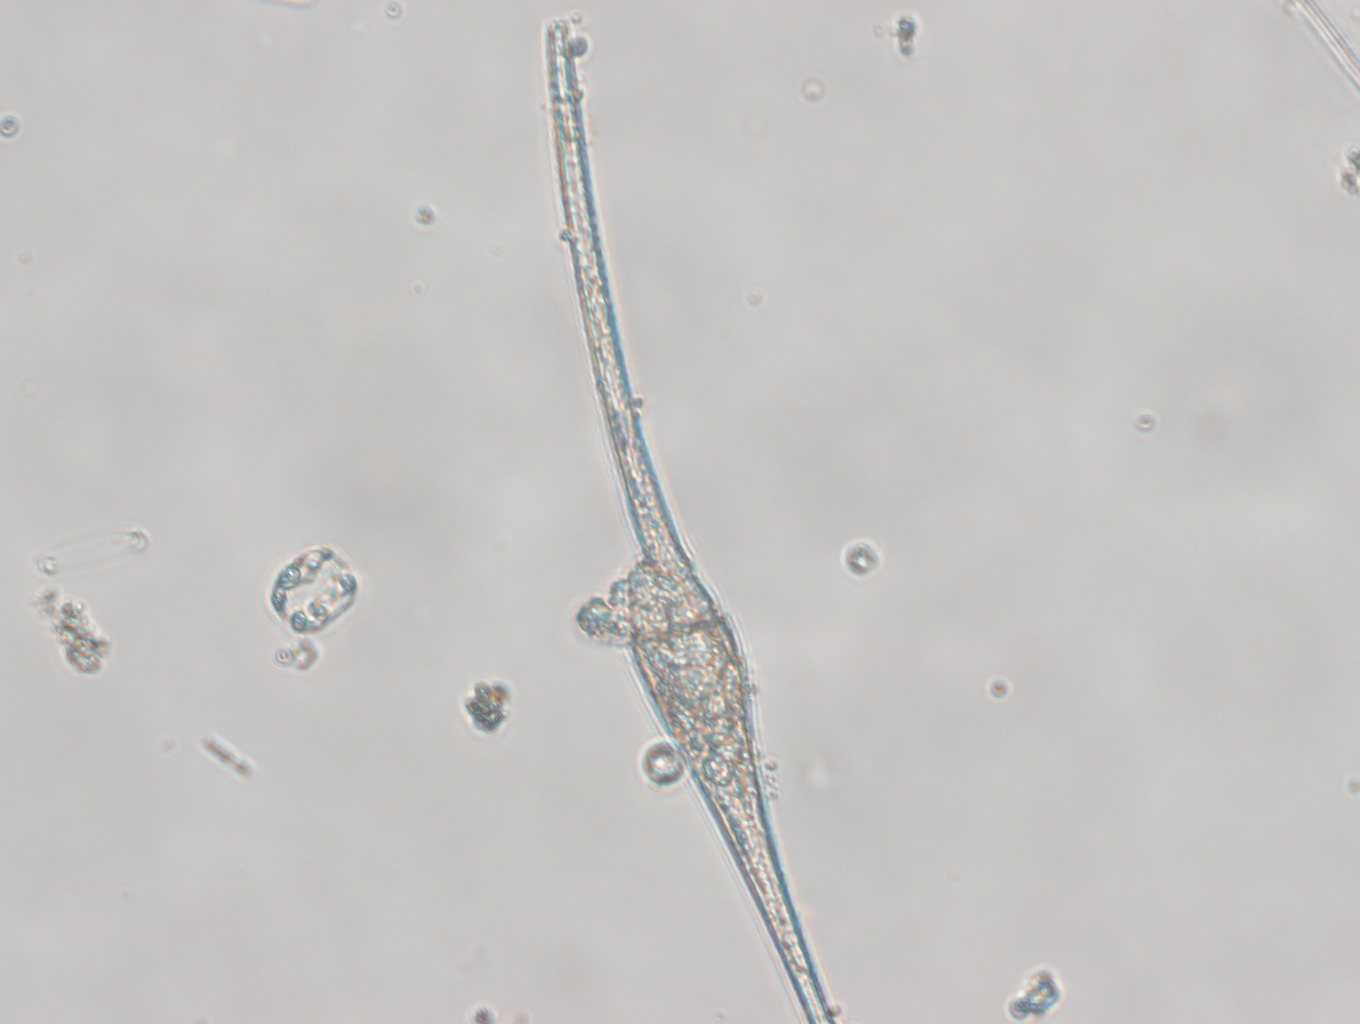ceratium fusus: (541, 20, 835, 1024)
